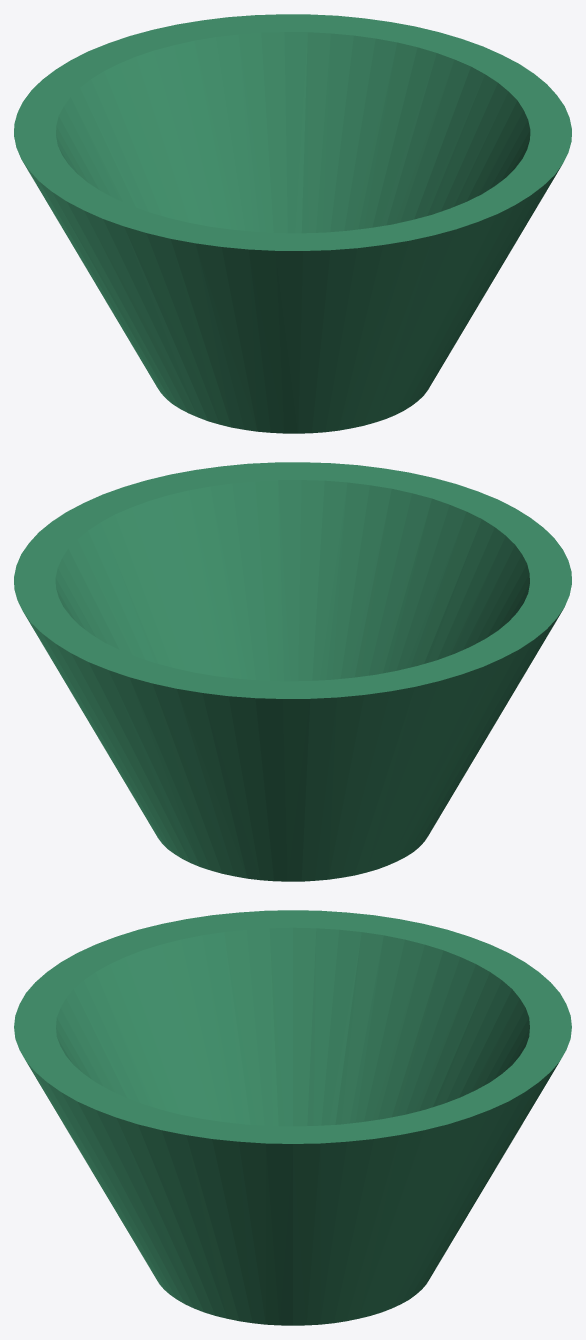
File: bowl_1.glb
3 renders of one model, top to bottom at view 1: azimuth 30°, elevation 25°; view 2: azimuth 150°, elevation 25°; view 3: azimuth 270°, elevation 25°, orthographic.
Visible parts, largest first — view 1: Mesh_Mesh_head_geo.001_lambert2SG.001; view 2: Mesh_Mesh_head_geo.001_lambert2SG.001; view 3: Mesh_Mesh_head_geo.001_lambert2SG.001.
Part boxes in pixels (x1,y1,x2,y2): Mesh_Mesh_head_geo.001_lambert2SG.001: (14,14,571,433); Mesh_Mesh_head_geo.001_lambert2SG.001: (14,462,571,881); Mesh_Mesh_head_geo.001_lambert2SG.001: (14,910,571,1325).
Bounding box in the file's own units: 1.31 × 0.625 × 1.32.
